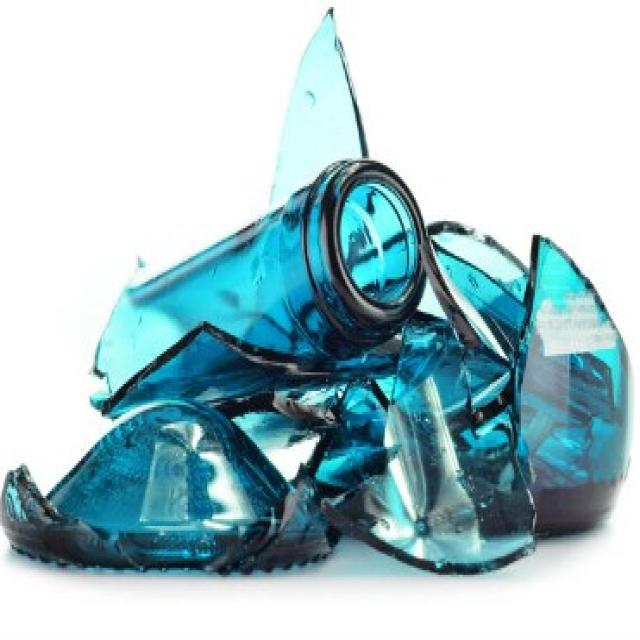electronic: (4, 2, 629, 594)
